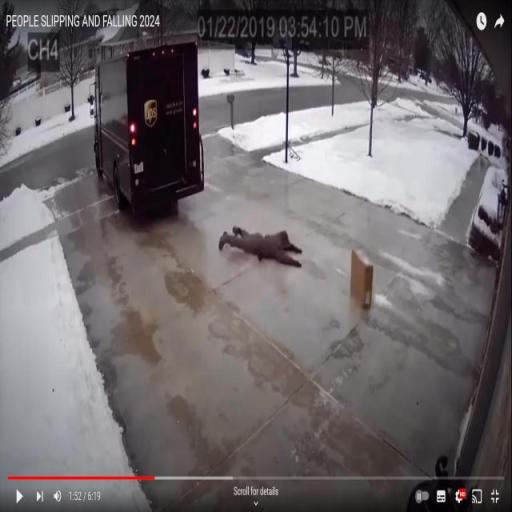Fall: (218, 220, 304, 271)
